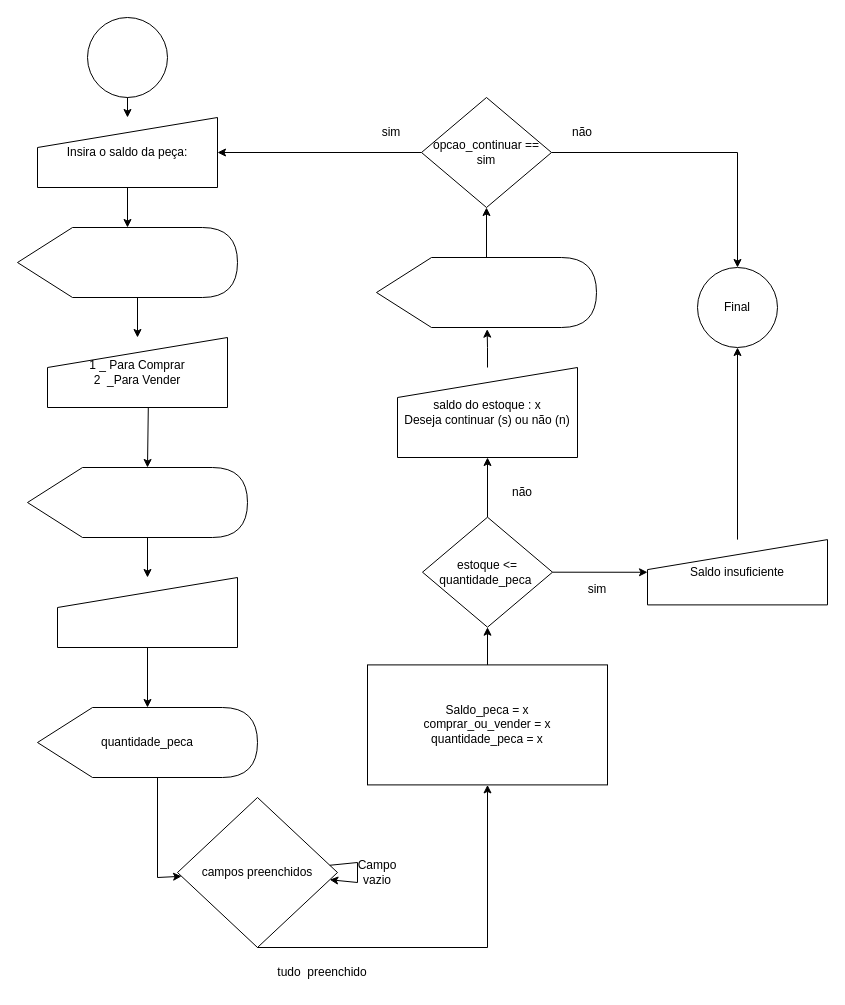
Image size: 845x1005. Some labels were removed from this diagram. Here are the shapes that lost their labels. From the top down, the centre of each, then its label:
pixel 127 57: Inicio
pixel 127 262: Saldo_peca
pixel 486 292: opcao_continuar
pixel 137 502: comprar_ou_vender
pixel 147 612: Quantas peças
